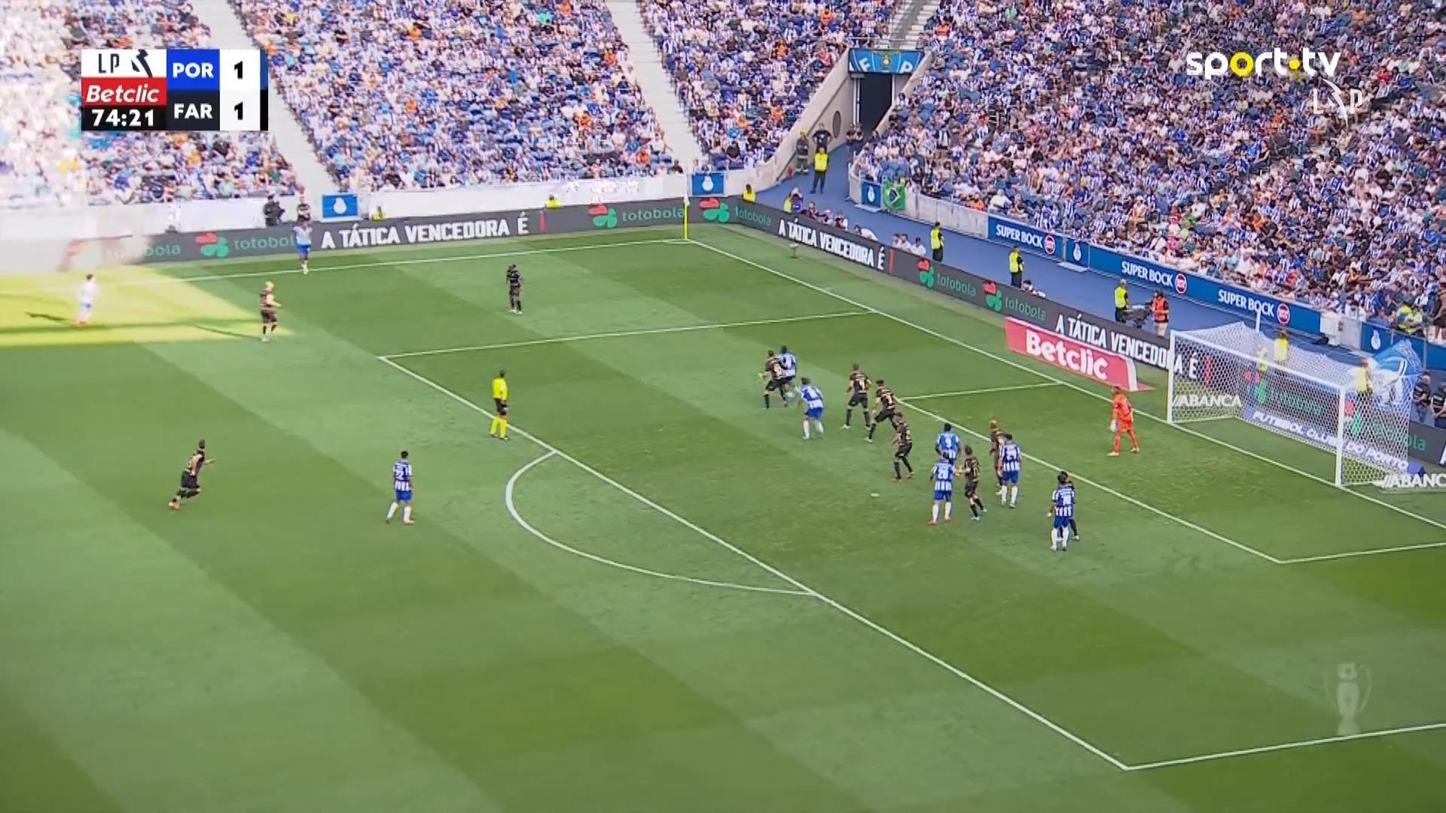goalkeeper: (1106, 386, 1139, 455)
player: (167, 437, 215, 510), (1046, 470, 1078, 551), (863, 378, 899, 443), (384, 449, 415, 524), (956, 443, 986, 520), (927, 452, 956, 525), (840, 362, 871, 430), (996, 431, 1022, 507), (758, 349, 789, 409), (796, 376, 825, 439), (889, 416, 914, 480), (988, 418, 1008, 493), (258, 280, 282, 342), (774, 344, 798, 403), (73, 272, 97, 326), (291, 218, 313, 275), (934, 420, 960, 467), (505, 262, 523, 314)
referee: (488, 368, 511, 440)
